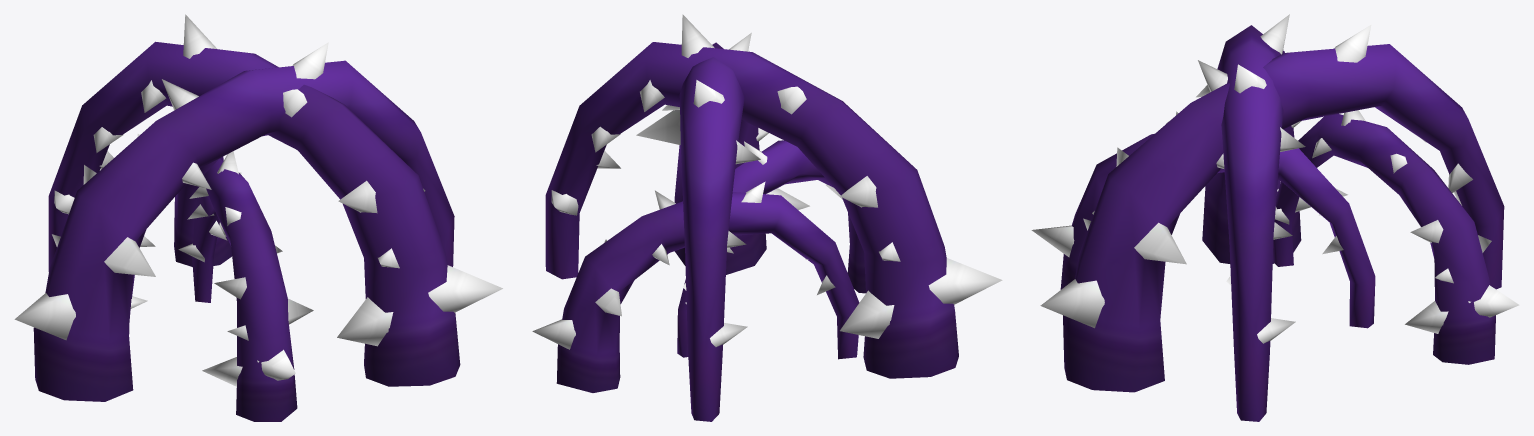
Rendered from PlantaEspinho.glb.
3 renders of one model, left to right at view 1: azimuth 30°, elevation 25°; view 2: azimuth 150°, elevation 25°; view 3: azimuth 270°, elevation 25°, orthographic. The views are drawn at different scales.
Visible parts, largest first — view 1: PlantaEspinho; view 2: PlantaEspinho; view 3: PlantaEspinho.
Part boxes in pixels (<box>): PlantaEspinho: <box>14,14,502,421</box>; PlantaEspinho: <box>532,14,1002,421</box>; PlantaEspinho: <box>1031,14,1519,421</box>.
Size of the model in its own units: 2.1 by 1.3 by 1.9.
1 material, 1 textured.
